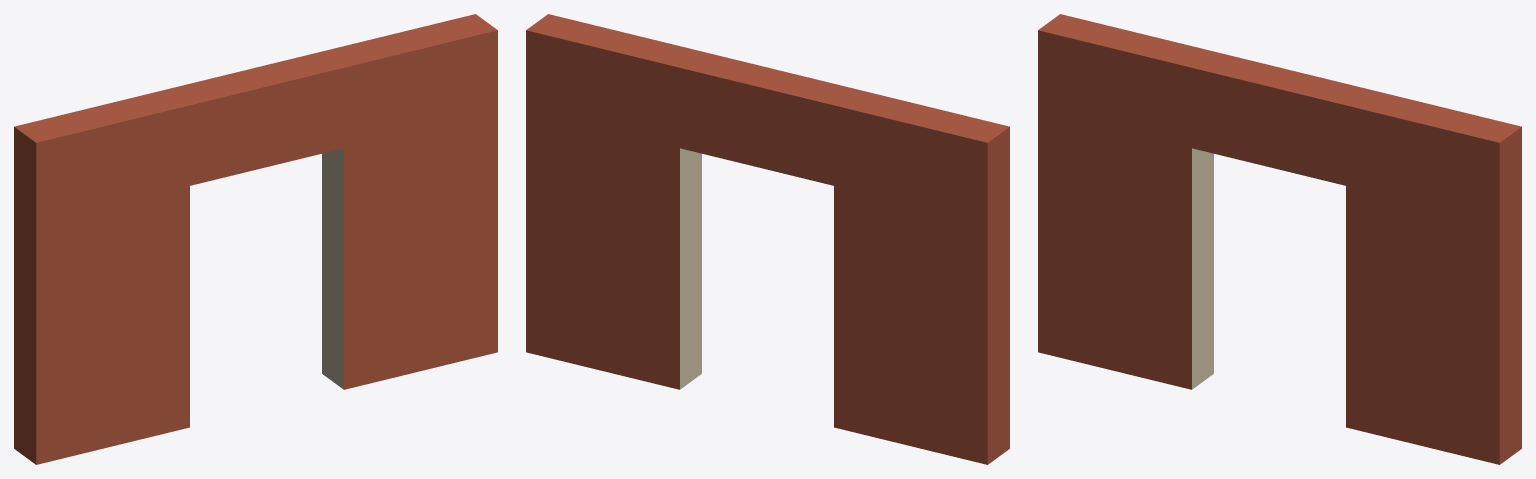
Rendered from Doorway.union.glb.
3 views of the same model, side by side, from view 1: azimuth 30°, elevation 25°; view 2: azimuth 150°, elevation 25°; view 3: azimuth 330°, elevation 25° (orthographic).
Visible parts, largest first — view 1: Piece1; view 2: Piece1; view 3: Piece1.
Boxes of the visible parts, box(x1,y1,x2,y2) form: Piece1: box(14, 14, 497, 464); Piece1: box(526, 14, 1009, 464); Piece1: box(1038, 14, 1521, 464).
Bounding box in the file's own units: 12 × 8 × 1.
